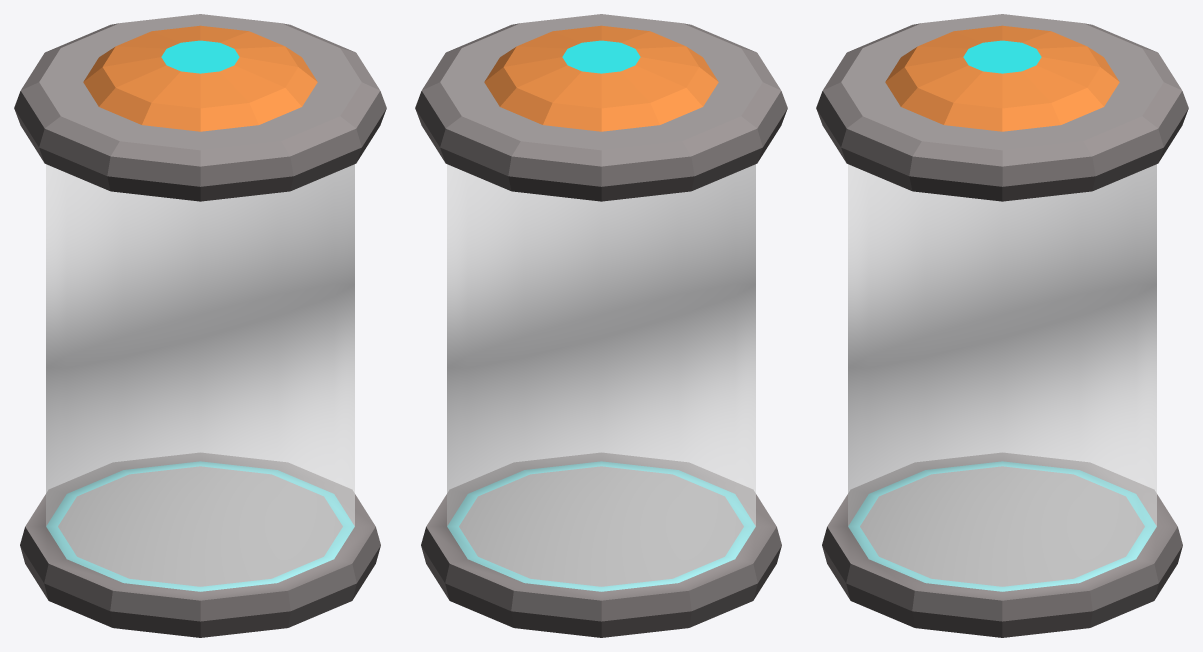
File: ScienceContainer_01.glb
3 views of the same model, side by side, from view 1: azimuth 30°, elevation 25°; view 2: azimuth 150°, elevation 25°; view 3: azimuth 270°, elevation 25° (orthographic).
Parts seen in each view (by area): view 1: ScienceContainer_01; view 2: ScienceContainer_01; view 3: ScienceContainer_01.
Part boxes in pixels (left/top/right/bottom): ScienceContainer_01: left=14, top=14, right=386, bottom=637; ScienceContainer_01: left=415, top=14, right=787, bottom=637; ScienceContainer_01: left=816, top=14, right=1188, bottom=637.
Size of what is drawn, in the model's own units: 0.5693 by 0.854 by 0.5693.
Materials: 2 (2 with a texture image).
